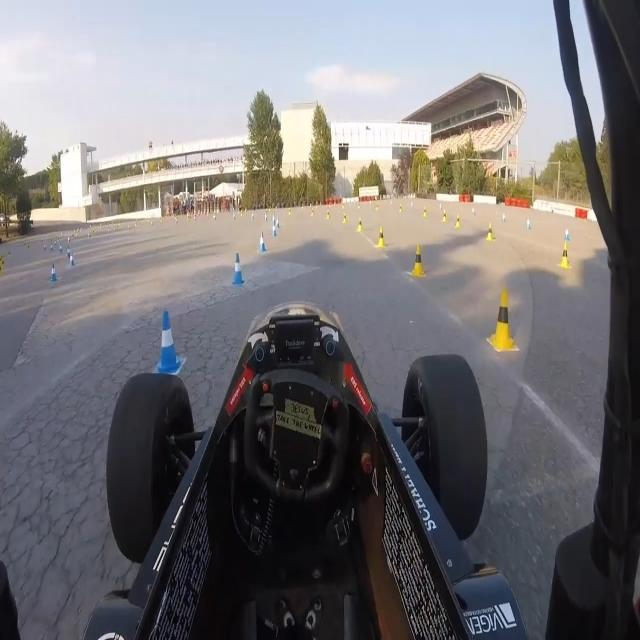blue_cone: (147, 308, 184, 379), (231, 249, 244, 288), (258, 231, 268, 255), (49, 262, 58, 284), (271, 225, 277, 240), (66, 245, 72, 260), (70, 251, 75, 267), (564, 227, 569, 241), (526, 217, 531, 230), (276, 215, 280, 228), (502, 212, 507, 222), (272, 213, 276, 223), (59, 244, 62, 255), (472, 206, 475, 217), (265, 213, 267, 220)
yellow_cone: (488, 289, 515, 355), (408, 241, 424, 277), (558, 243, 570, 271), (485, 222, 496, 243), (377, 224, 385, 248), (356, 216, 363, 233), (455, 214, 461, 228), (342, 212, 347, 225), (1, 256, 6, 268), (443, 208, 447, 222), (423, 205, 428, 216), (326, 209, 331, 220), (0, 264, 2, 279), (311, 209, 314, 216), (400, 204, 402, 214), (289, 210, 291, 217)
